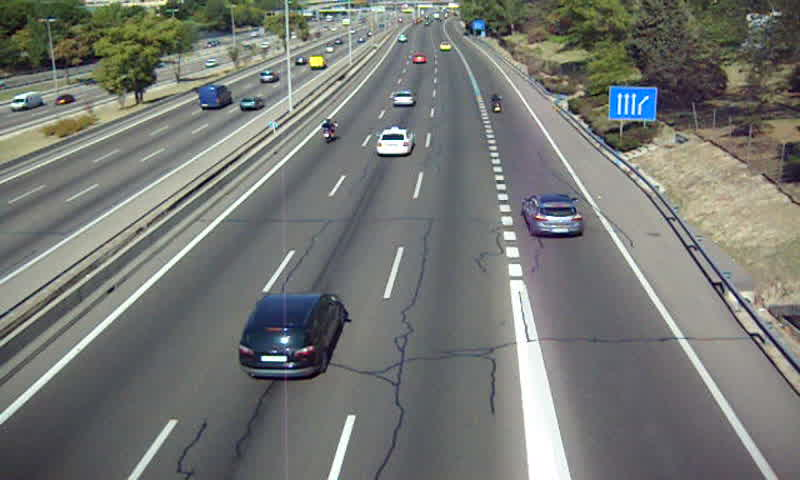car: (239, 293, 340, 378), (524, 194, 583, 237), (377, 128, 412, 154), (391, 90, 415, 108), (411, 53, 429, 65)
motorcycle: (321, 117, 339, 144), (490, 94, 503, 114)
